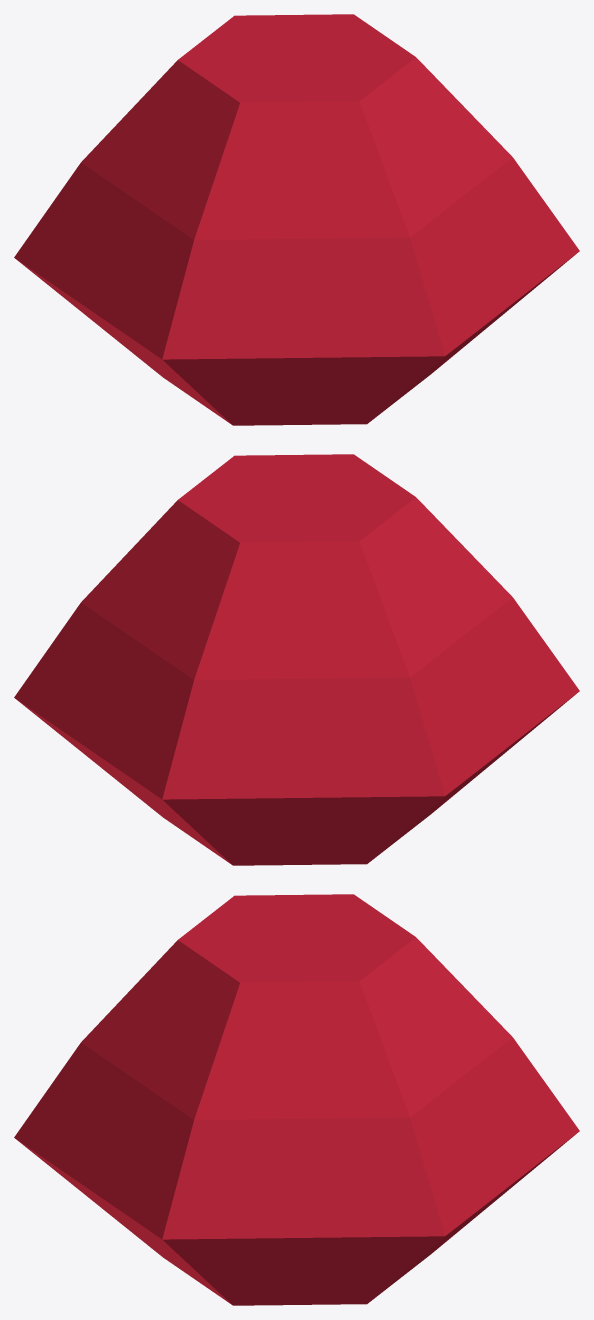
File: RubyGem.fbx
The picture shows the model from 3 angles, top to bottom: view 1: azimuth 30°, elevation 25°; view 2: azimuth 150°, elevation 25°; view 3: azimuth 270°, elevation 25°; orthographic projection.
Visible parts, largest first — view 1: RubyGem; view 2: RubyGem; view 3: RubyGem.
Boxes of the visible parts, x1,y1,x2,y2 form: RubyGem: (14,14,579,425); RubyGem: (14,454,579,865); RubyGem: (14,894,579,1305).
Size of the model in its own units: 6.68 by 4.7 by 7.6.
